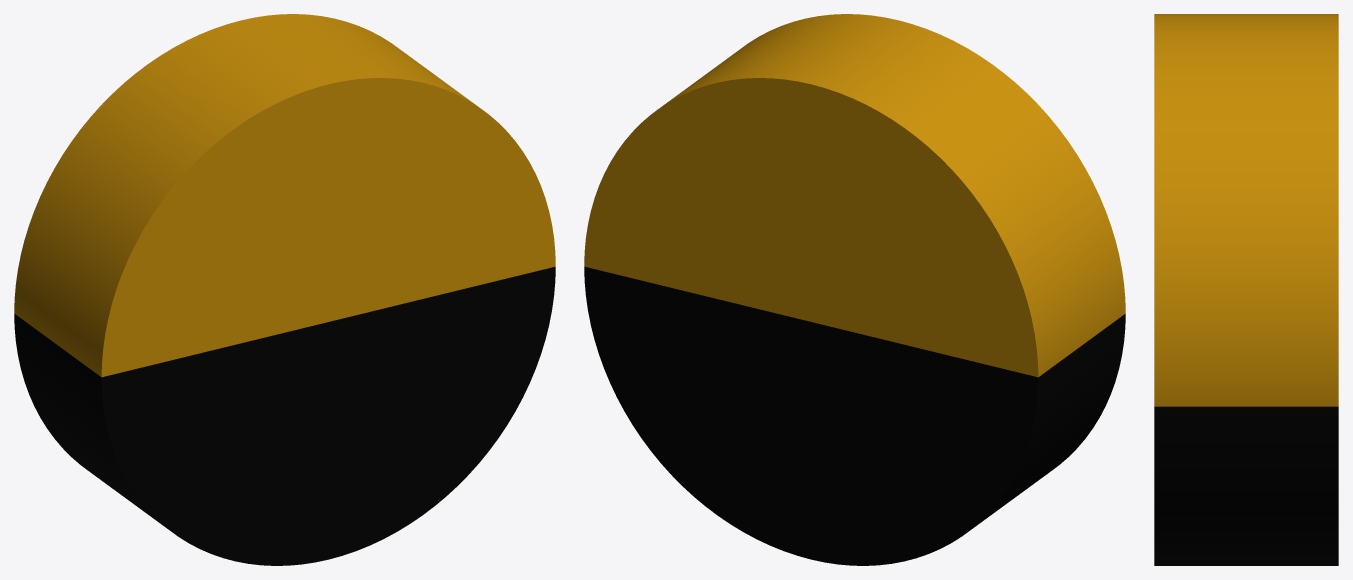
The model's file is dual_color.obj.
3 views of the same model, side by side, from view 1: azimuth 30°, elevation 25°; view 2: azimuth 150°, elevation 25°; view 3: azimuth 270°, elevation 25° (orthographic). The views are drawn at different scales.
Visible parts, largest first — view 1: Body1; view 2: Body1; view 3: Body1.
Boxes of the visible parts, x1,y1,x2,y2 form: Body1: (14,14,555,565); Body1: (584,14,1125,565); Body1: (1154,14,1338,565).
Size of the model in its own units: 30 by 30 by 10.
